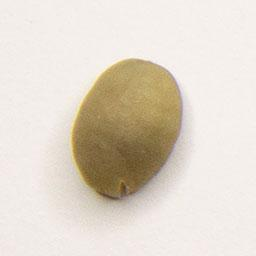premium: (68, 55, 187, 204)
